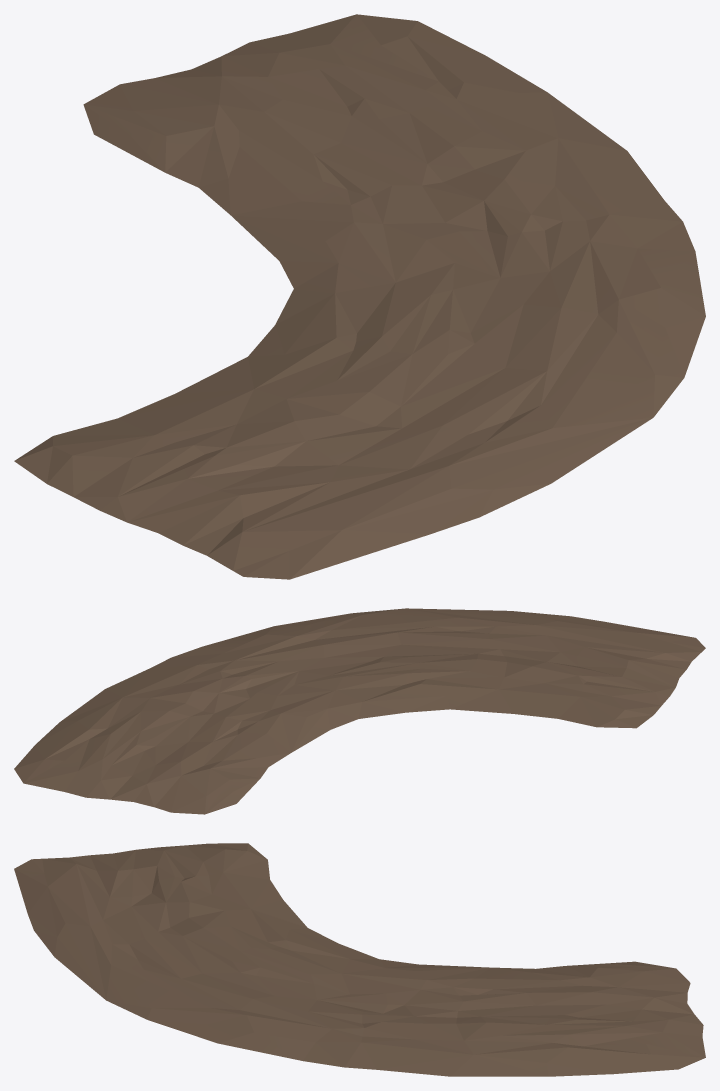
File: SM_Env_Road_Dirt_Corner_02.glb
The picture shows the model from 3 angles, top to bottom: view 1: azimuth 30°, elevation 25°; view 2: azimuth 150°, elevation 25°; view 3: azimuth 270°, elevation 25°; orthographic projection. The views are drawn at different scales.
Parts seen in each view (by area): view 1: SM_Env_Road_Dirt_Corner_02; view 2: SM_Env_Road_Dirt_Corner_02; view 3: SM_Env_Road_Dirt_Corner_02.
Part boxes in pixels (box(x1,y1,x2,y2)): SM_Env_Road_Dirt_Corner_02: box(14, 14, 705, 579); SM_Env_Road_Dirt_Corner_02: box(14, 608, 705, 814); SM_Env_Road_Dirt_Corner_02: box(14, 843, 705, 1076).
Bounding box in the file's own units: 918 × 20.34 × 1149.
1 material, 1 textured.
